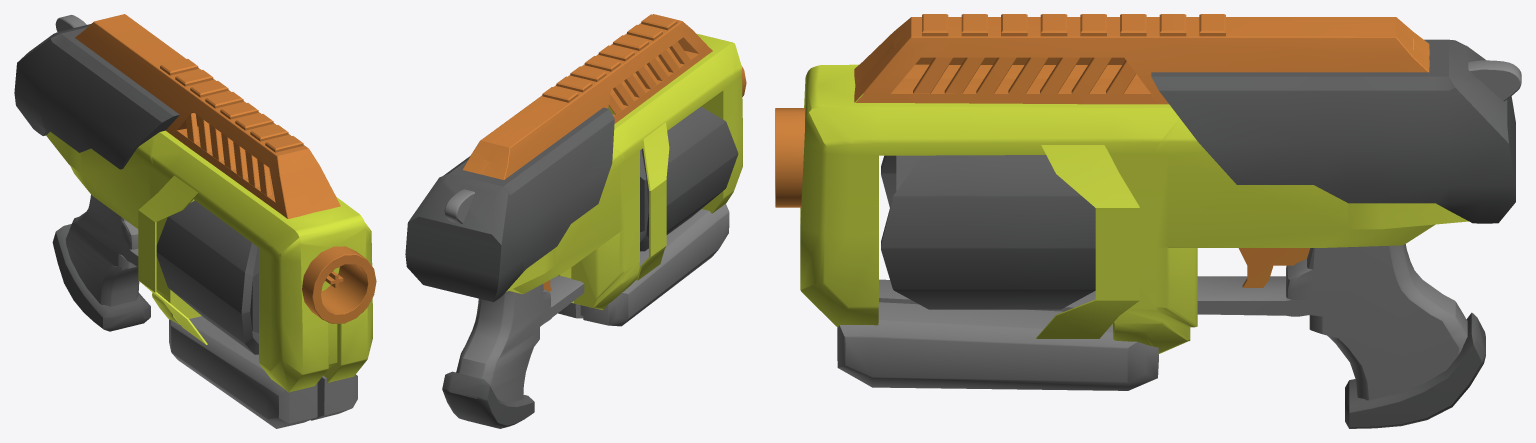
The model's file is nerf.fbx.
3 views of the same model, side by side, from view 1: azimuth 30°, elevation 25°; view 2: azimuth 150°, elevation 25°; view 3: azimuth 270°, elevation 25° (orthographic). The views are drawn at different scales.
Parts seen in each view (by area): view 1: Body.001; view 2: Body.001; view 3: Body.001.
Part boxes in pixels (x1,y1,x2,y2): Body.001: (14,14,376,428); Body.001: (405,14,746,428); Body.001: (775,14,1521,428).
Bounding box in the file's own units: 78.06 × 165 × 282.
